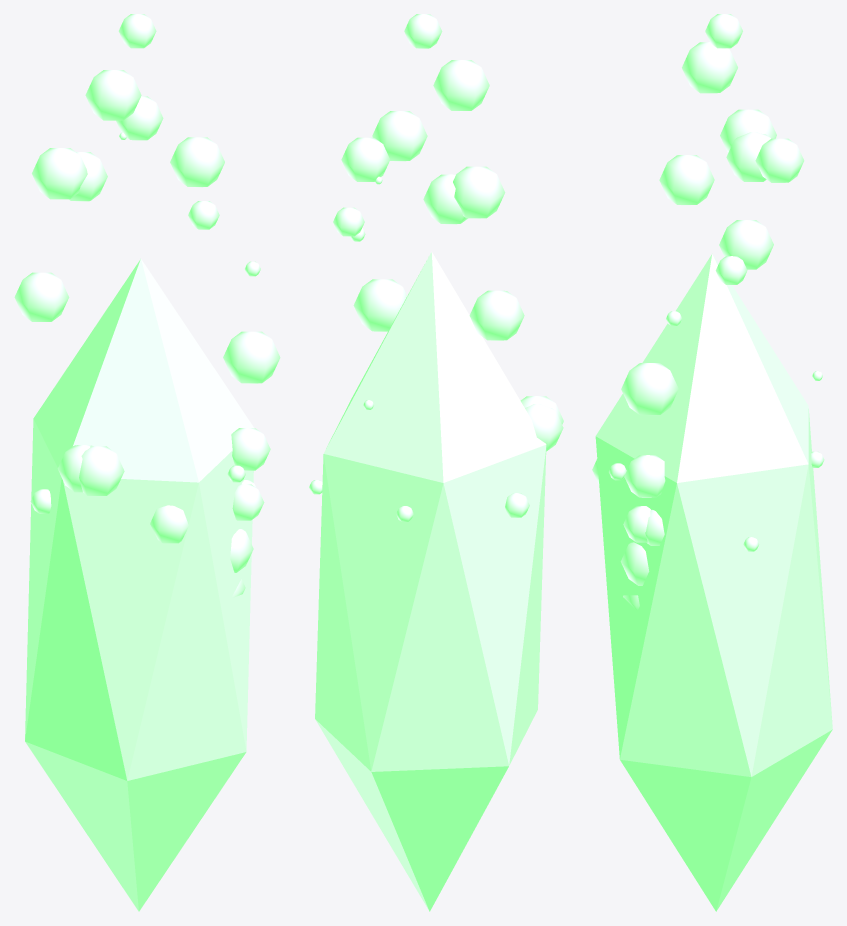
Rendered from Crystal.glb.
3 renders of one model, left to right at view 1: azimuth 30°, elevation 25°; view 2: azimuth 150°, elevation 25°; view 3: azimuth 270°, elevation 25°, orthographic.
Visible parts, largest first — view 1: MainOrb, Glow sphere.031_131, Glow sphere.021_121, Glow sphere.025_125, Glow sphere.044_144, Glow sphere.027_127, Glow sphere.024_124, Glow sphere.040_140, Glow sphere.022_122, Glow sphere.032_132, Glow sphere.047_147, Glow sphere.018_118 (+4 smaller); view 2: MainOrb, Glow sphere.025_125, Glow sphere.021_121, Glow sphere.027_127, Glow sphere.031_131, Glow sphere.044_144, Glow sphere.022_122, Glow sphere.047_147, Glow sphere.049_149, Glow sphere.018_118, Glow sphere.048_148; view 3: MainOrb, Glow sphere.031_131, Glow sphere.025_125, Glow sphere.044_144, Glow sphere.027_127, Glow sphere.022_122, Glow sphere.040_140, Glow sphere.047_147, Glow sphere.021_121, Glow sphere.018_118, Glow sphere.028_128, Glow sphere.037_137 (+2 smaller).
Boxes of the visible parts, x1,y1,x2,y2 form: MainOrb: (25, 259, 253, 911); Glow sphere.031_131: (223, 331, 280, 383); Glow sphere.021_121: (32, 148, 87, 199); Glow sphere.025_125: (85, 70, 141, 120); Glow sphere.044_144: (170, 137, 224, 187); Glow sphere.027_127: (14, 272, 69, 321); Glow sphere.024_124: (79, 446, 124, 495); Glow sphere.040_140: (231, 428, 270, 470); Glow sphere.022_122: (116, 96, 163, 140); Glow sphere.032_132: (150, 505, 188, 543); Glow sphere.047_147: (69, 152, 107, 201); Glow sphere.018_118: (118, 14, 156, 48); MainOrb: (315, 252, 546, 911); Glow sphere.025_125: (433, 60, 489, 111); Glow sphere.021_121: (453, 166, 505, 218); Glow sphere.027_127: (469, 290, 524, 340); Glow sphere.031_131: (353, 279, 407, 331); Glow sphere.044_144: (372, 111, 427, 161); Glow sphere.022_122: (341, 137, 389, 181); Glow sphere.047_147: (423, 174, 467, 224); Glow sphere.049_149: (525, 404, 563, 451); Glow sphere.018_118: (404, 14, 442, 48); Glow sphere.048_148: (333, 207, 364, 236); MainOrb: (595, 254, 832, 911); Glow sphere.031_131: (621, 363, 678, 415); Glow sphere.025_125: (682, 42, 737, 93); Glow sphere.044_144: (659, 155, 714, 205); Glow sphere.027_127: (719, 220, 773, 269); Glow sphere.022_122: (755, 138, 804, 182); Glow sphere.040_140: (624, 455, 665, 497); Glow sphere.047_147: (726, 132, 771, 181); Glow sphere.021_121: (720, 109, 776, 152); Glow sphere.018_118: (705, 14, 742, 48); Glow sphere.028_128: (620, 542, 649, 585); Glow sphere.037_137: (623, 506, 650, 542).
Size of the model in its own units: 0.5736 by 2.4 by 0.5832.
